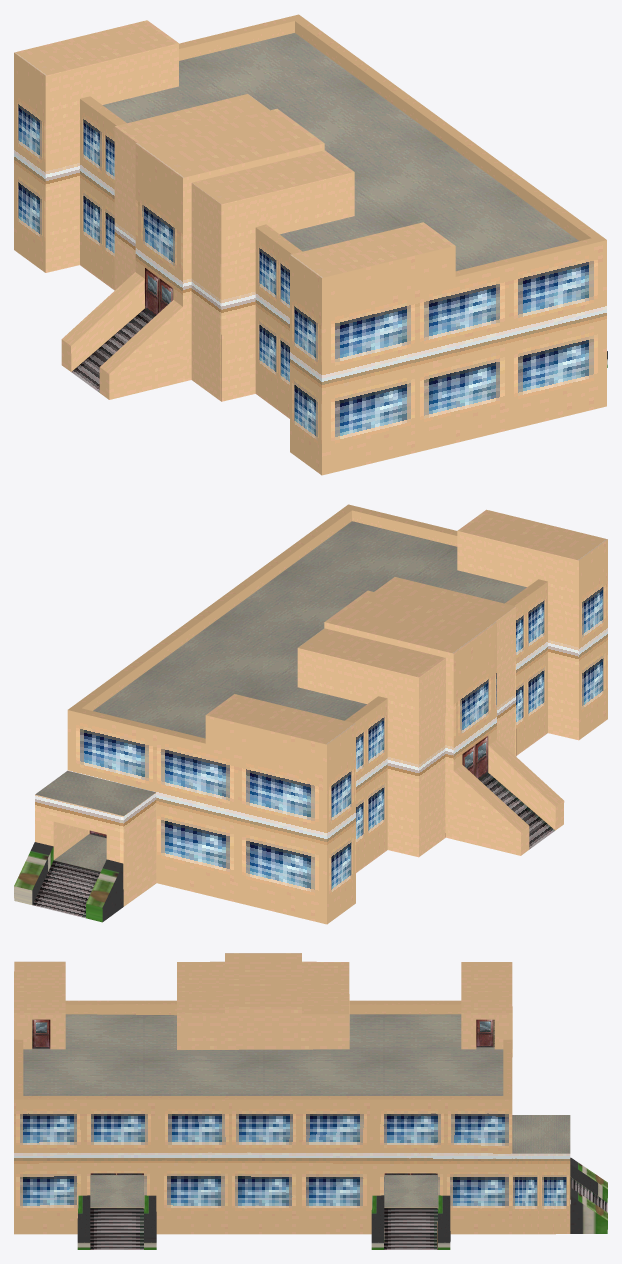
File: school3.glb
3 views of the same model, one above another, from view 1: azimuth 30°, elevation 25°; view 2: azimuth 150°, elevation 25°; view 3: azimuth 270°, elevation 25° (orthographic). The views are drawn at different scales.
Visible parts, largest first — view 1: school3; view 2: school3; view 3: school3.
Part boxes in pixels (bbox=[...]): school3: bbox=[14, 14, 607, 475]; school3: bbox=[14, 504, 607, 924]; school3: bbox=[14, 953, 607, 1249].
Bounding box in the file's own units: 3488 × 1673 × 5445.
Materials: 4 (4 with a texture image).
